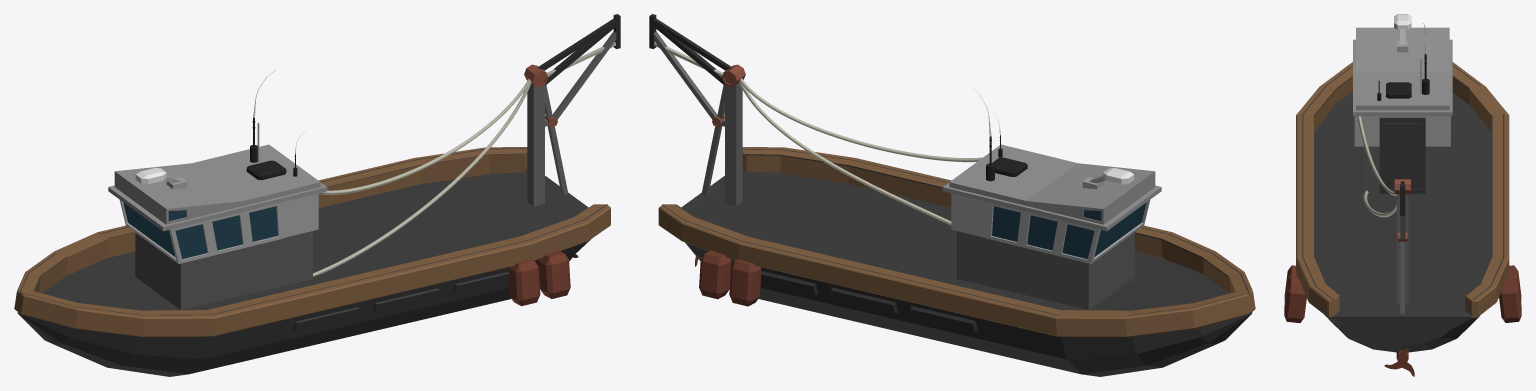
Rendered from civ-boat.glb.
3 views of the same model, side by side, from view 1: azimuth 30°, elevation 25°; view 2: azimuth 150°, elevation 25°; view 3: azimuth 270°, elevation 25° (orthographic). The views are drawn at different scales.
Visible parts, largest first — view 1: Ship.001, Bouda, Hook, Ship.010, Ship.009, Ship.008, Ship.007, Ship.013; view 2: Ship.001, Bouda, Hook, Ship.012, Ship.011, Ship.007, Ship.008, Ship.013; view 3: Ship.001, Bouda, Hook, Ship.012, Ship.010, Ship.013, Ship.007, Ship.015, Ship.005, Ship.008.
Boxes of the visible parts, <box> form: Ship.001: <box>14,147,610,376</box>; Bouda: <box>108,144,327,309</box>; Hook: <box>524,14,620,206</box>; Ship.010: <box>538,250,570,298</box>; Ship.009: <box>508,259,540,306</box>; Ship.008: <box>313,82,531,276</box>; Ship.007: <box>319,79,530,194</box>; Ship.013: <box>246,160,286,179</box>; Ship.001: <box>658,147,1255,376</box>; Bouda: <box>942,144,1161,309</box>; Hook: <box>649,14,745,206</box>; Ship.012: <box>699,250,731,299</box>; Ship.011: <box>729,259,761,306</box>; Ship.007: <box>739,78,982,162</box>; Ship.008: <box>739,81,951,225</box>; Ship.013: <box>991,157,1027,176</box>; Ship.001: <box>1296,62,1509,352</box>; Bouda: <box>1353,27,1452,193</box>; Hook: <box>1394,179,1410,314</box>; Ship.012: <box>1499,278,1521,322</box>; Ship.010: <box>1284,278,1306,322</box>; Ship.013: <box>1386,82,1411,98</box>; Ship.007: <box>1357,116,1396,195</box>; Ship.015: <box>1394,14,1411,29</box>; Ship.005: <box>1422,23,1429,94</box>; Ship.008: <box>1363,190,1396,217</box>.
Size of the model in its own units: 8.13 by 3.34 by 3.06.
